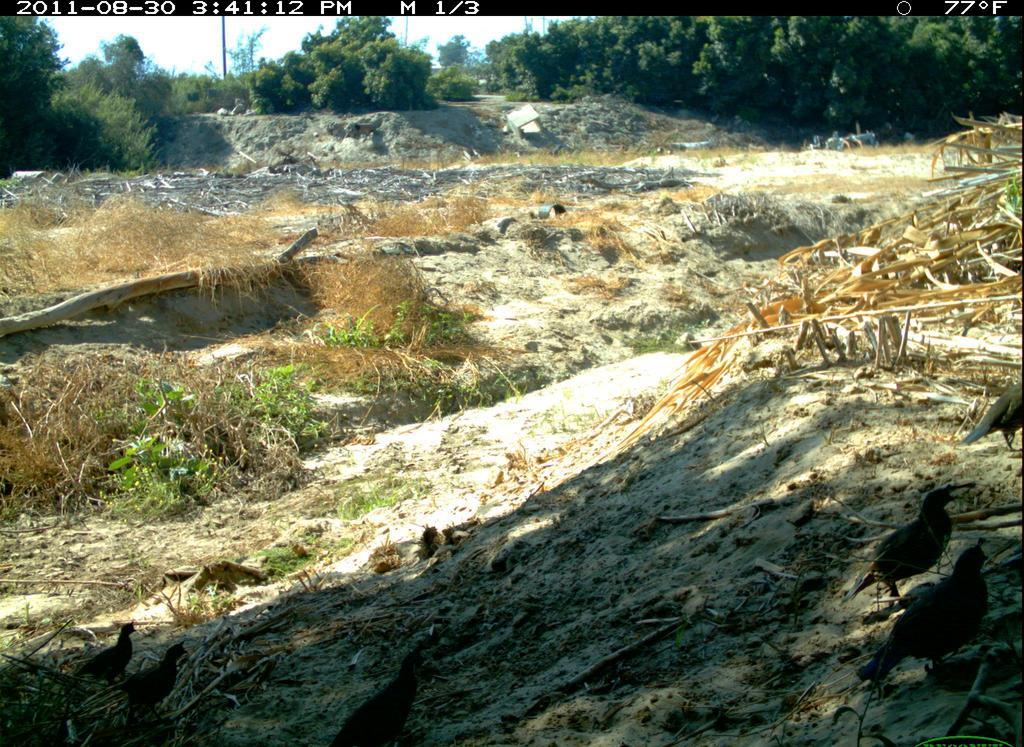bird: (857, 541, 989, 693), (845, 483, 959, 605), (331, 643, 450, 740), (103, 642, 191, 734), (962, 370, 1021, 456), (74, 621, 139, 689)
